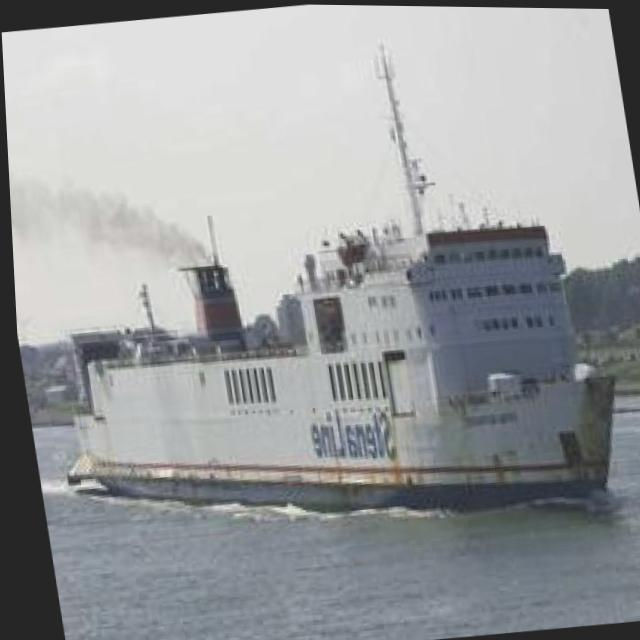ship2: (60, 41, 615, 519)
